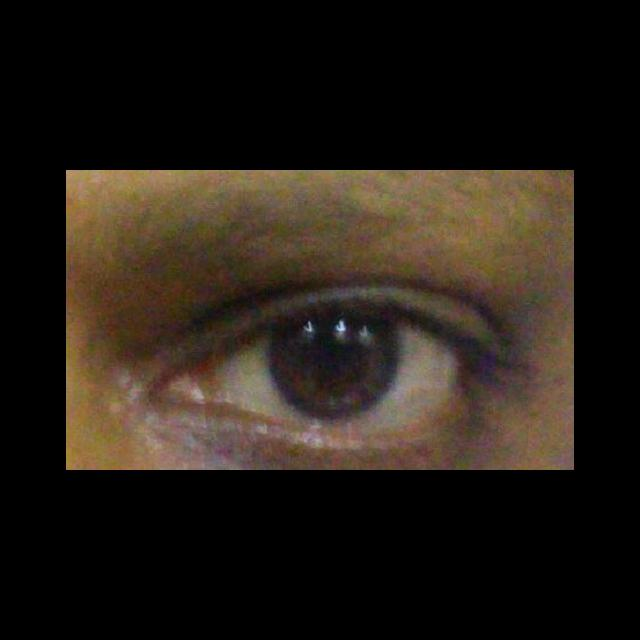eye: (212, 317, 467, 423)
iris: (266, 319, 399, 422)
